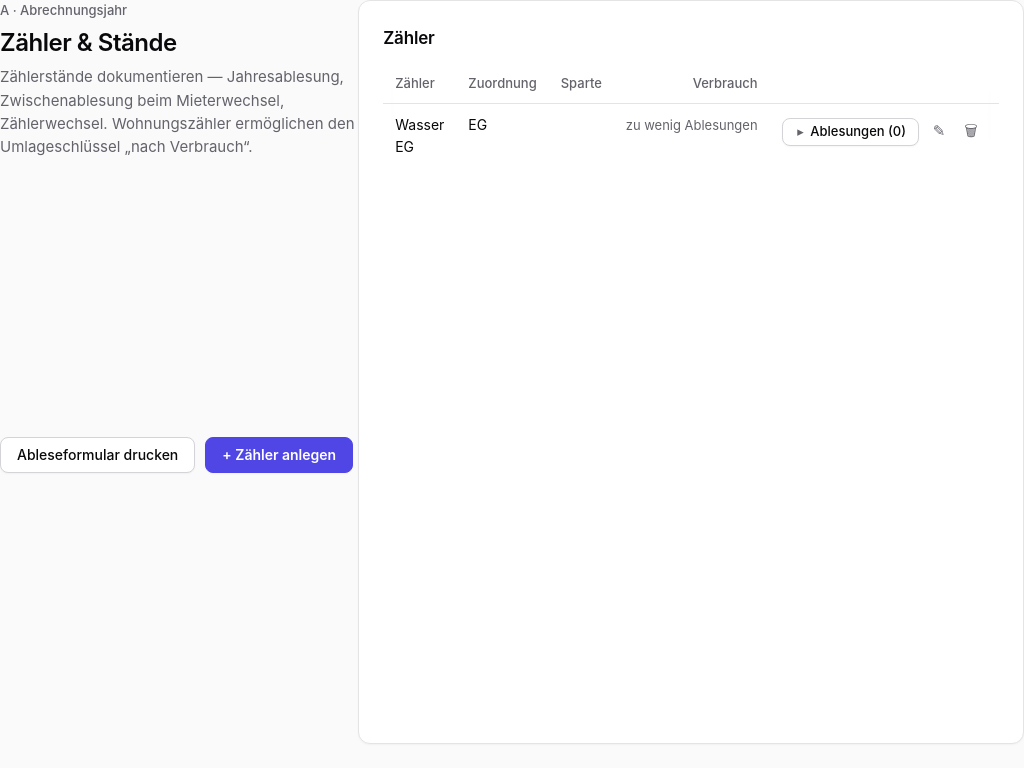
Test: Ablesung anlegen: POST /api/readings mit dem Rumpf wie bisher, danach ist das Formular zu
Click the button "Ablesungen (0)": [850, 132] box [782,118,919,146]
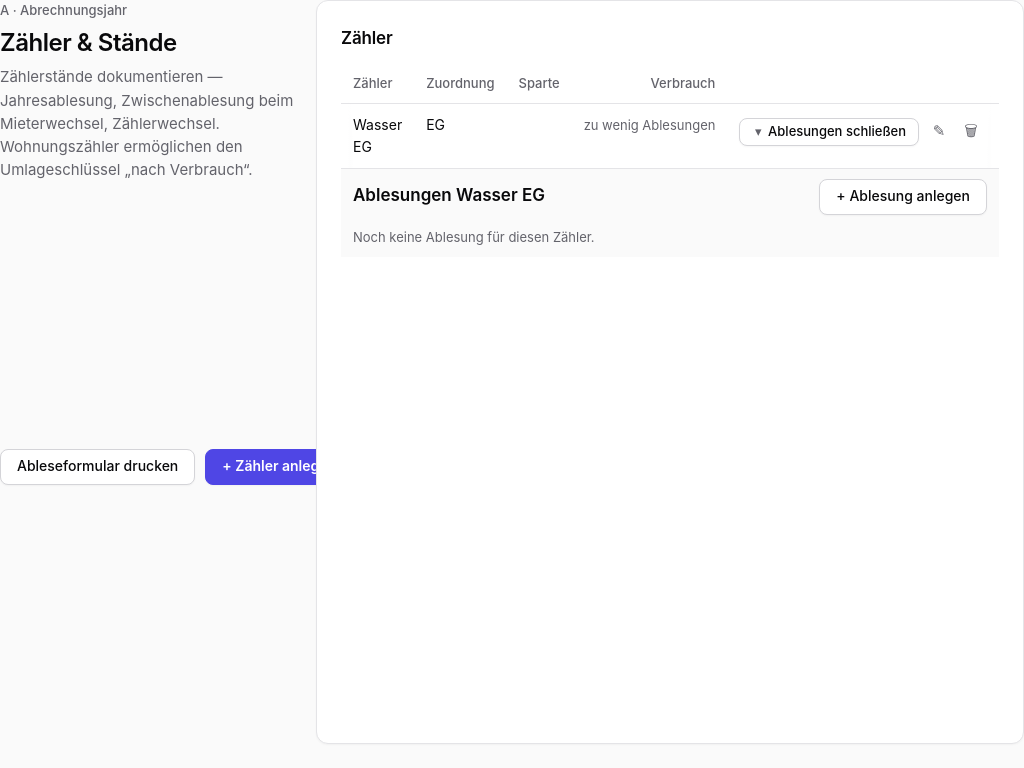
Click the button "+ Ablesung anlegen": [903, 197] box [819,179,987,215]
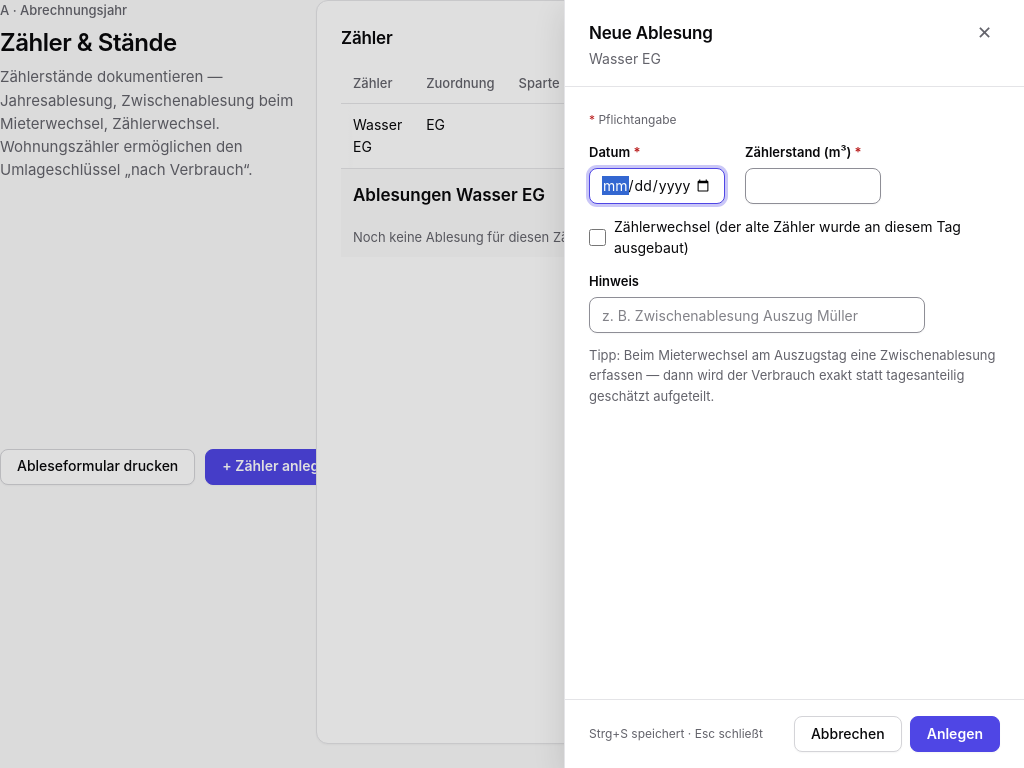
In the date field labelled "Datum *": [657, 186] box [589,168,725,204], type "2025-06-30"
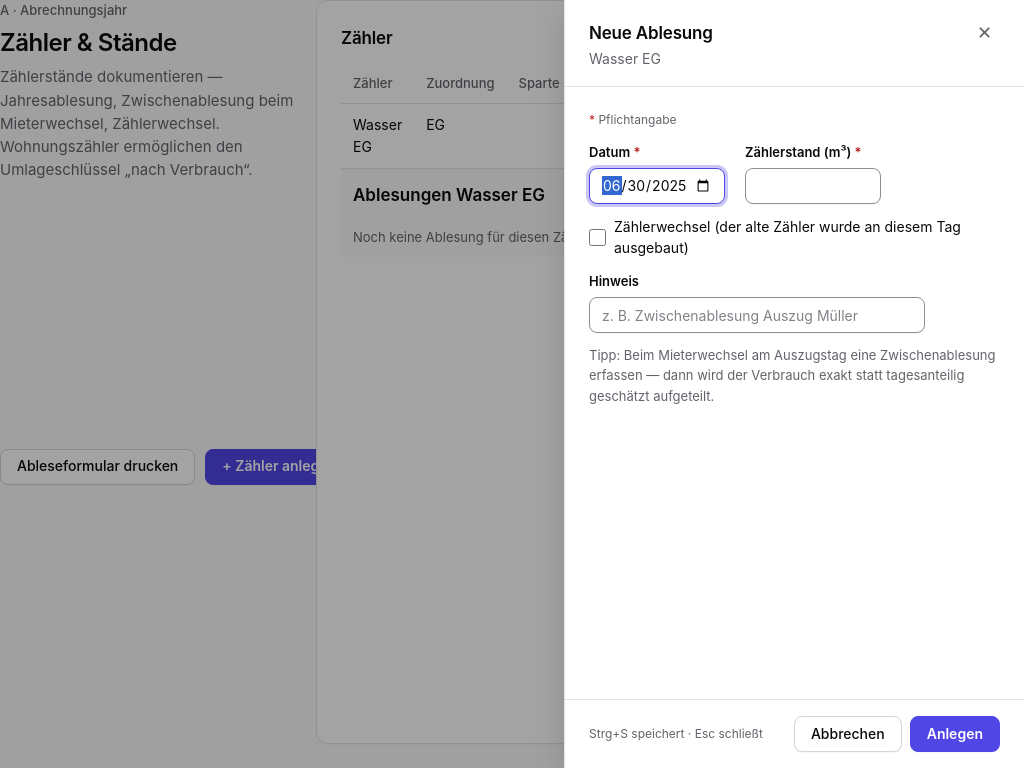
In the field labelled "Zählerstand (m³) *": [813, 186] box [745,168,881,204], type "1.234,5"
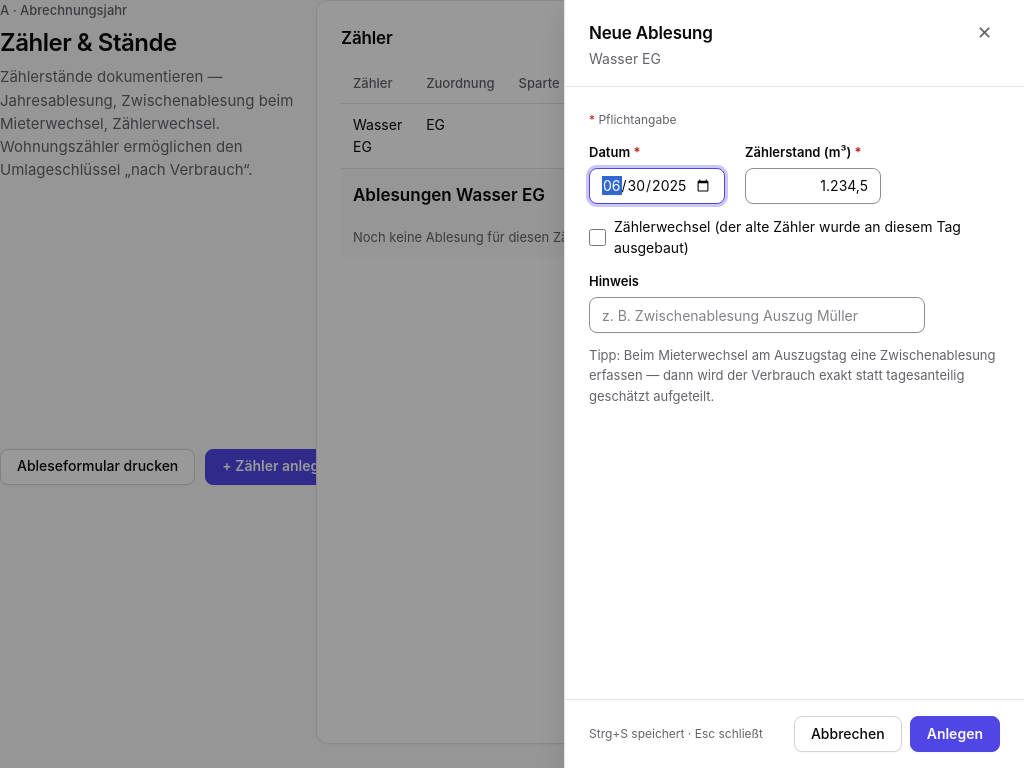
In the field labelled "Hinweis": [757, 315] box [589,297,925,333], type " Zwischenablesung Auszug "
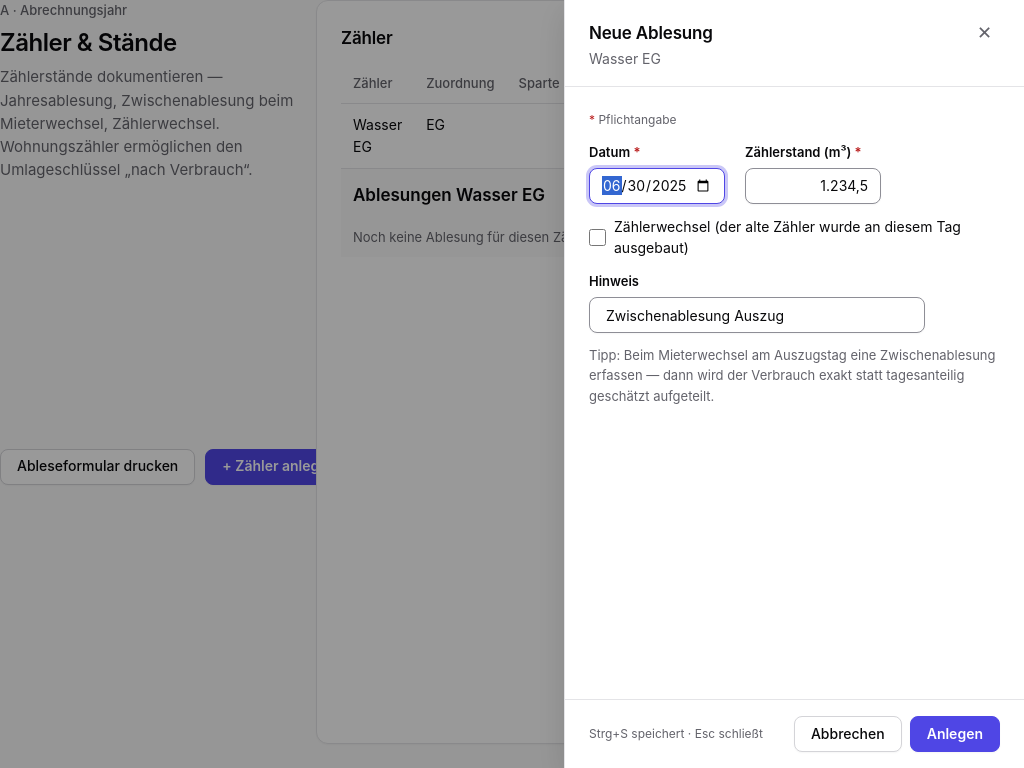
Click the button "Anlegen": [955, 734] box [910,716,1000,752]
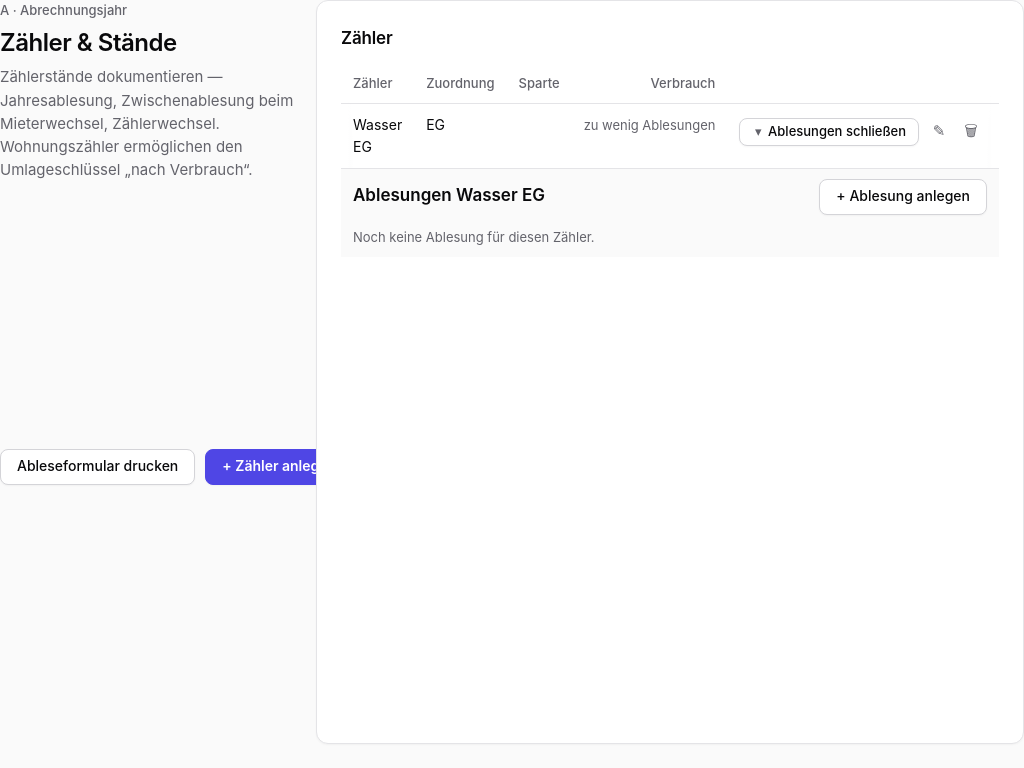
Now the dialog is gone
